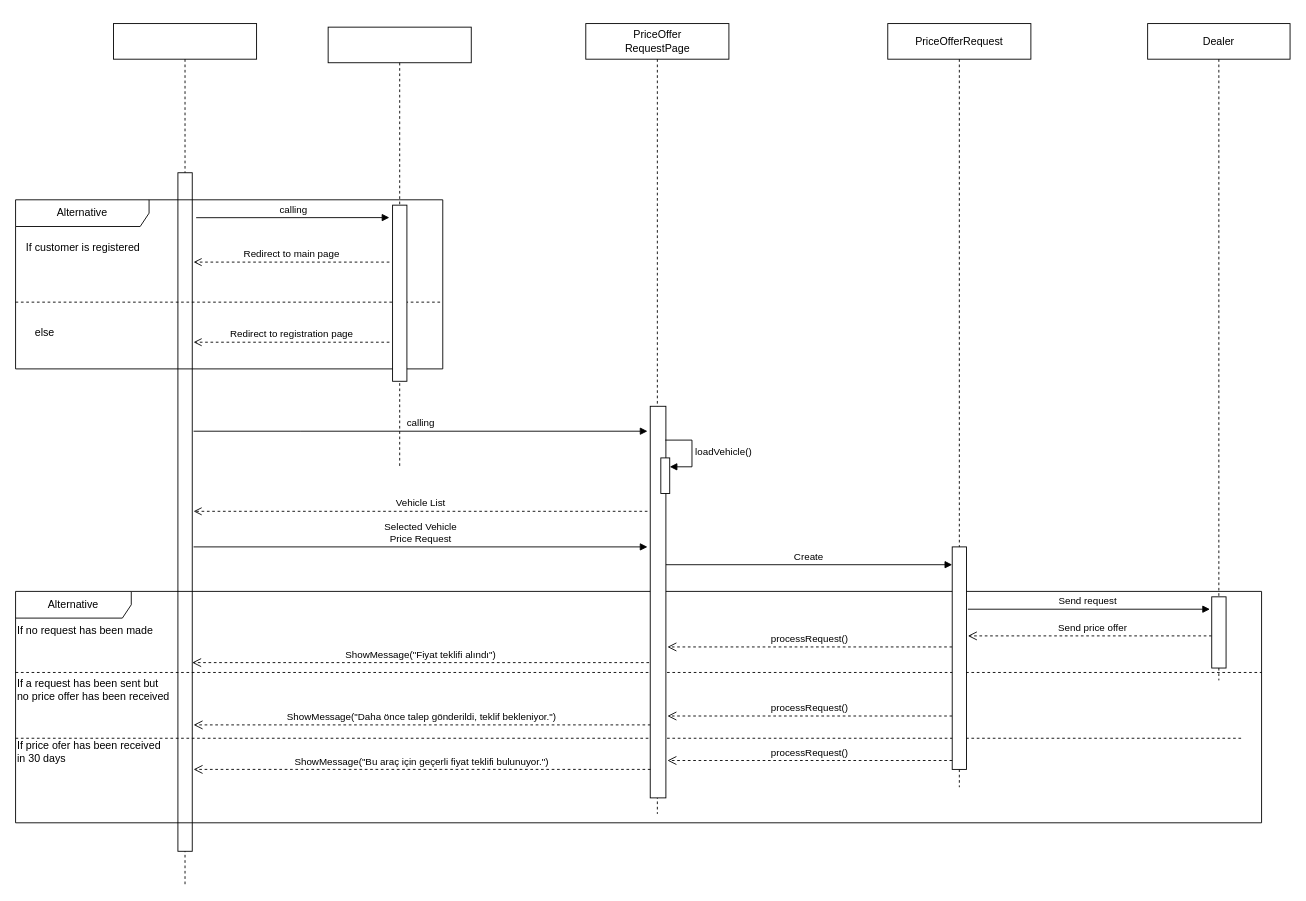
Image size: 1306x901. Some labels were removed from this diagram. Each missing label, with the box of its shape:
Customer: (113, 23, 257, 885)
Login: (327, 26, 471, 467)
